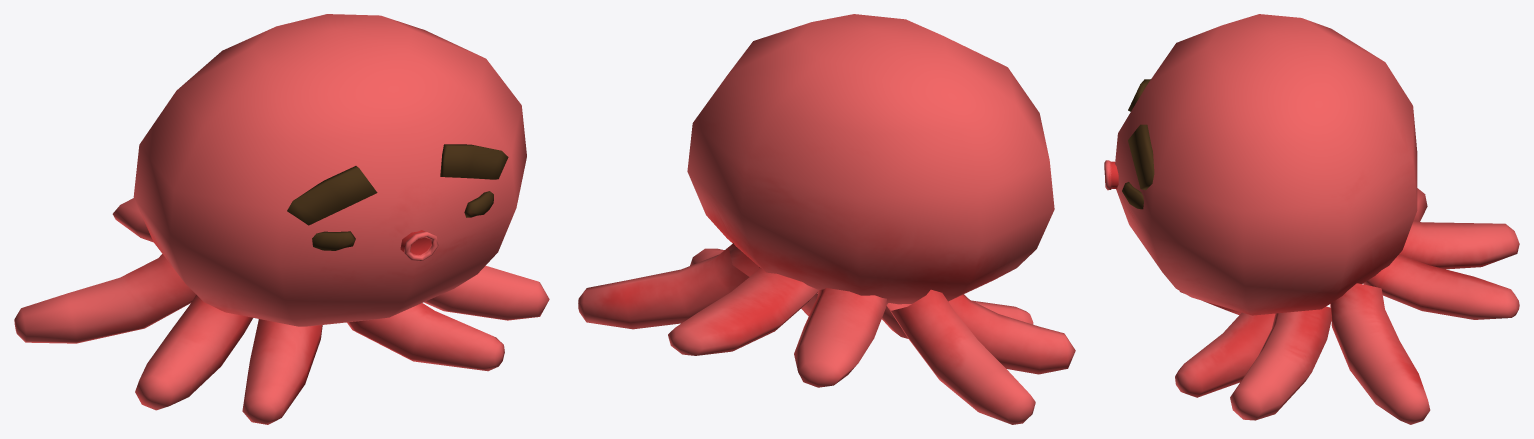
File: Bullet_Red.fbx
3 views of the same model, side by side, from view 1: azimuth 30°, elevation 25°; view 2: azimuth 150°, elevation 25°; view 3: azimuth 270°, elevation 25° (orthographic). The views are drawn at different scales.
Visible parts, largest first — view 1: M1; view 2: M1; view 3: M1.
Boxes of the visible parts, left/top/right/bottom form: M1: left=14, top=14, right=549, bottom=424; M1: left=578, top=14, right=1075, bottom=424; M1: left=1104, top=14, right=1519, bottom=424.
Bounding box in the file's own units: 97.27 × 64.55 × 78.38.
